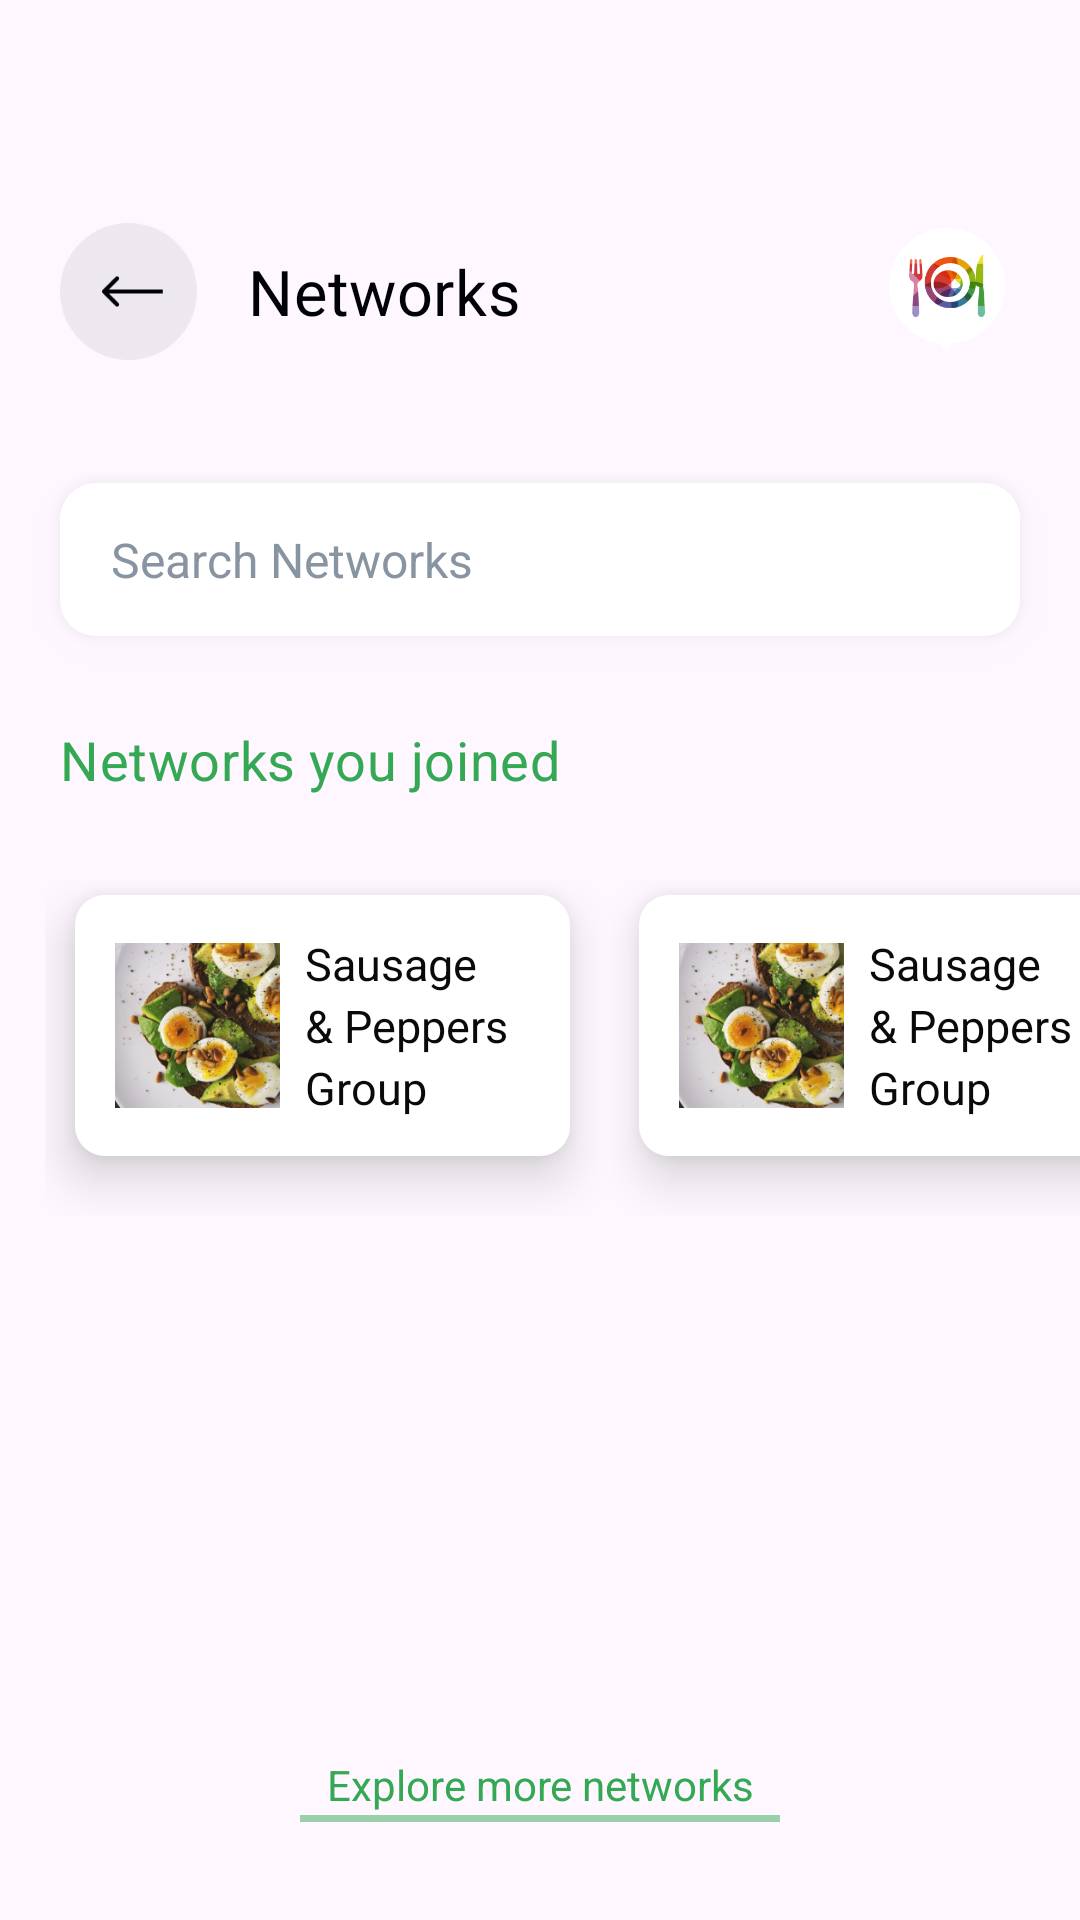

Point at icon controls on the screen. Image size 1080 × 1920, points as [x,y].
back: [128,291]
